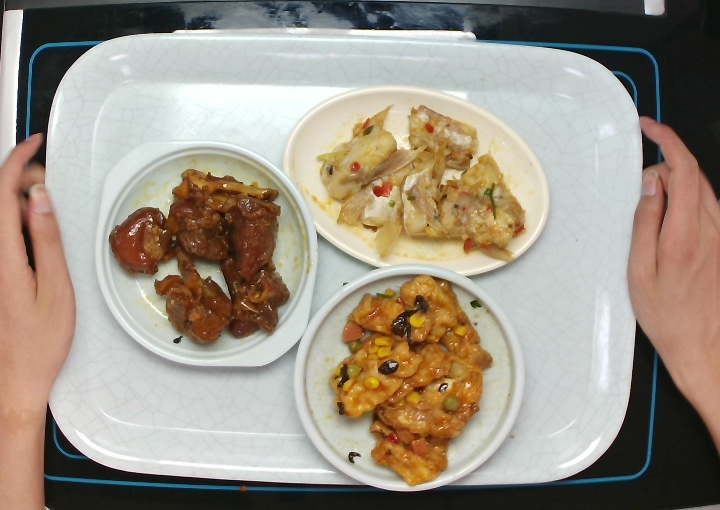JYsf-Shuang_Er_Pan: (94, 132, 320, 373)
JYsf-Tuo_Yuan_Wan: (281, 83, 553, 283)
JYsf-Xiao_Yuan_Pan: (293, 263, 526, 493)
